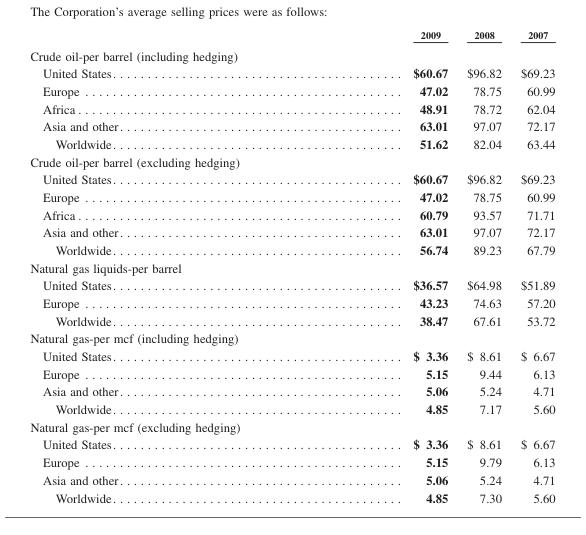table: (29, 28, 554, 504)
table column: (29, 28, 267, 504), (267, 28, 456, 504), (456, 28, 510, 504), (510, 28, 554, 504)
table column header: (29, 28, 554, 44)
table projected row header: (29, 44, 554, 63), (29, 258, 554, 276), (29, 417, 554, 435), (29, 152, 554, 169), (29, 329, 554, 346)
table row: (29, 44, 554, 63), (29, 63, 554, 81), (29, 81, 554, 99), (29, 116, 554, 134), (29, 134, 554, 152), (29, 169, 554, 187), (29, 187, 554, 205), (29, 222, 554, 240), (29, 240, 554, 258), (29, 258, 554, 276), (29, 293, 554, 311), (29, 311, 554, 329), (29, 346, 554, 364), (29, 364, 554, 382), (29, 399, 554, 417), (29, 417, 554, 435), (29, 452, 554, 470), (29, 470, 554, 488), (29, 99, 554, 116), (29, 152, 554, 169), (29, 205, 554, 222), (29, 276, 554, 293), (29, 329, 554, 346), (29, 382, 554, 399), (29, 435, 554, 452), (29, 28, 554, 44), (29, 488, 554, 504)
